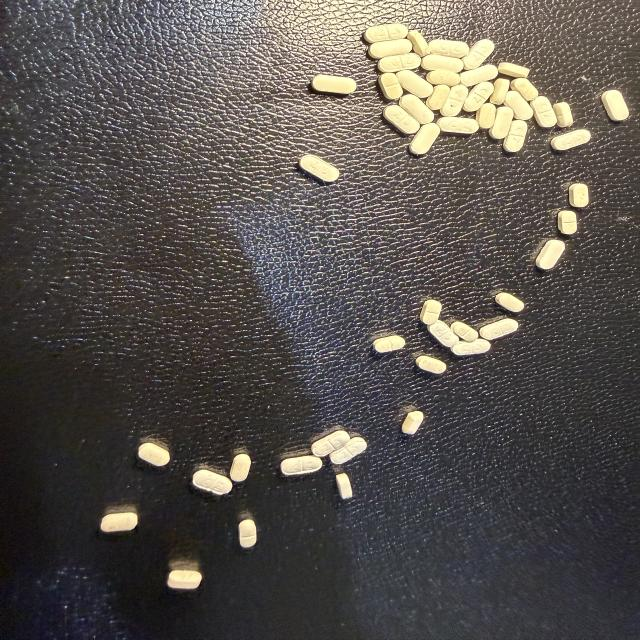pill: (299, 155, 339, 182), (383, 105, 420, 134), (399, 94, 434, 124), (396, 70, 433, 98), (312, 430, 350, 457), (192, 470, 232, 495), (409, 123, 440, 155), (330, 437, 366, 464), (463, 82, 493, 112), (463, 40, 494, 69), (280, 455, 322, 476), (536, 240, 565, 270), (440, 85, 468, 116), (602, 90, 629, 121), (312, 75, 356, 94), (365, 24, 408, 43), (369, 39, 412, 58), (378, 53, 421, 72), (505, 91, 533, 120), (429, 320, 459, 347), (531, 96, 557, 127), (551, 130, 591, 150), (100, 512, 138, 533), (480, 319, 518, 340), (503, 120, 527, 153), (422, 54, 463, 73), (460, 65, 497, 86), (489, 107, 513, 139), (138, 443, 170, 466), (429, 40, 469, 58), (438, 117, 478, 134), (167, 570, 202, 589), (452, 339, 490, 356), (379, 73, 403, 99), (511, 78, 538, 101), (407, 31, 430, 57), (230, 454, 251, 482), (373, 335, 405, 353), (427, 85, 450, 110), (451, 321, 478, 342), (495, 293, 524, 312), (416, 356, 446, 374), (427, 70, 460, 86), (420, 300, 441, 325), (402, 411, 424, 434), (476, 103, 496, 128), (553, 102, 573, 127), (490, 79, 509, 105), (239, 519, 256, 548), (558, 210, 577, 235), (569, 184, 589, 207), (498, 63, 529, 77), (336, 473, 352, 499)
